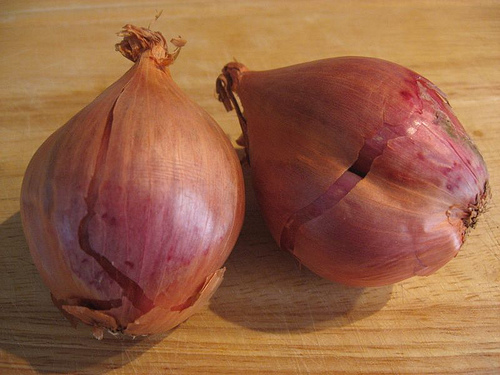onion: (22, 25, 247, 340), (216, 56, 493, 288)
